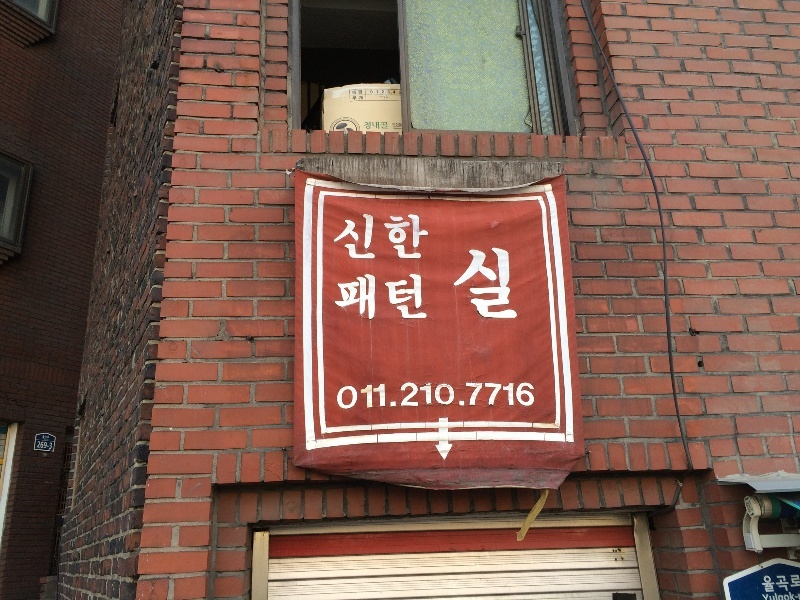text: (465, 246, 480, 323), (481, 246, 496, 323), (497, 246, 512, 323), (337, 273, 352, 323), (353, 273, 368, 323), (369, 273, 384, 323), (385, 273, 400, 323), (401, 273, 416, 323), (337, 214, 352, 261), (353, 214, 368, 261), (369, 214, 384, 261), (385, 214, 400, 261), (401, 214, 416, 261), (417, 214, 430, 261), (417, 273, 428, 323), (337, 381, 352, 412), (353, 381, 368, 412), (369, 381, 384, 412), (385, 381, 400, 412), (401, 381, 416, 412), (417, 381, 432, 412), (433, 381, 448, 412), (449, 381, 464, 412), (465, 381, 480, 412), (481, 381, 496, 412), (497, 381, 512, 412), (513, 381, 528, 412), (513, 246, 519, 323), (769, 574, 784, 595), (785, 574, 800, 595), (529, 381, 535, 412), (760, 574, 768, 595), (769, 592, 784, 600), (369, 122, 384, 130), (785, 592, 799, 600), (38, 441, 48, 451), (334, 214, 336, 261), (385, 90, 401, 95), (463, 246, 464, 323), (392, 122, 400, 131), (370, 90, 384, 95), (761, 592, 768, 600), (353, 96, 363, 101), (353, 90, 363, 95), (49, 441, 53, 451), (363, 122, 368, 130), (385, 122, 389, 130), (42, 435, 48, 440), (379, 96, 384, 100), (385, 96, 390, 100), (401, 122, 402, 131), (49, 435, 50, 440)
